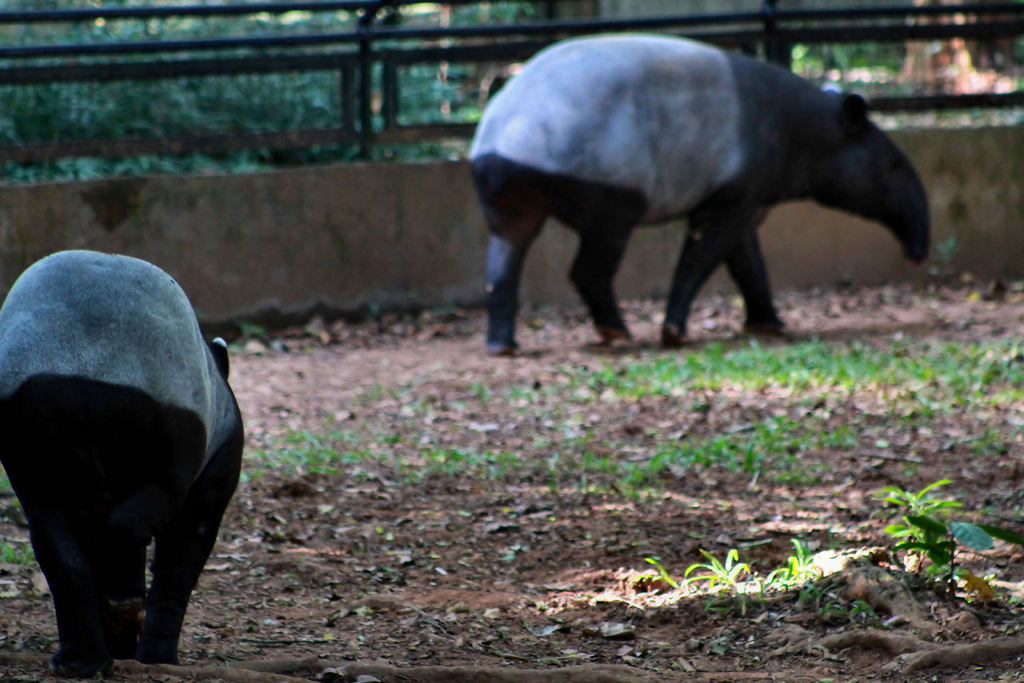Animal: (467, 26, 936, 354), (0, 241, 250, 677)
